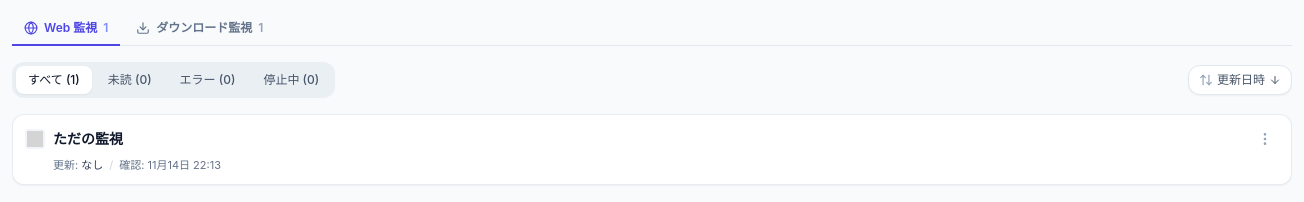
it: WatchList: Web 監視 / ダウンロード監視 › should not wrap a work that has only one site
Click the button "ダウンロード監視 1". click: {"x": 200, "y": 29}
box: [124,12,275,46]
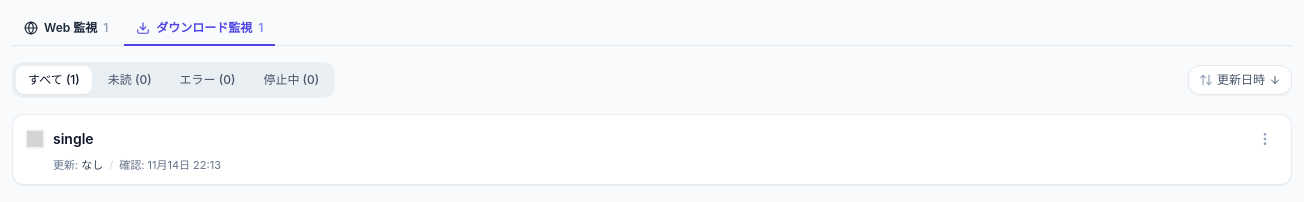
Check: the heading "single" is shown, box [53,130,94,147]
